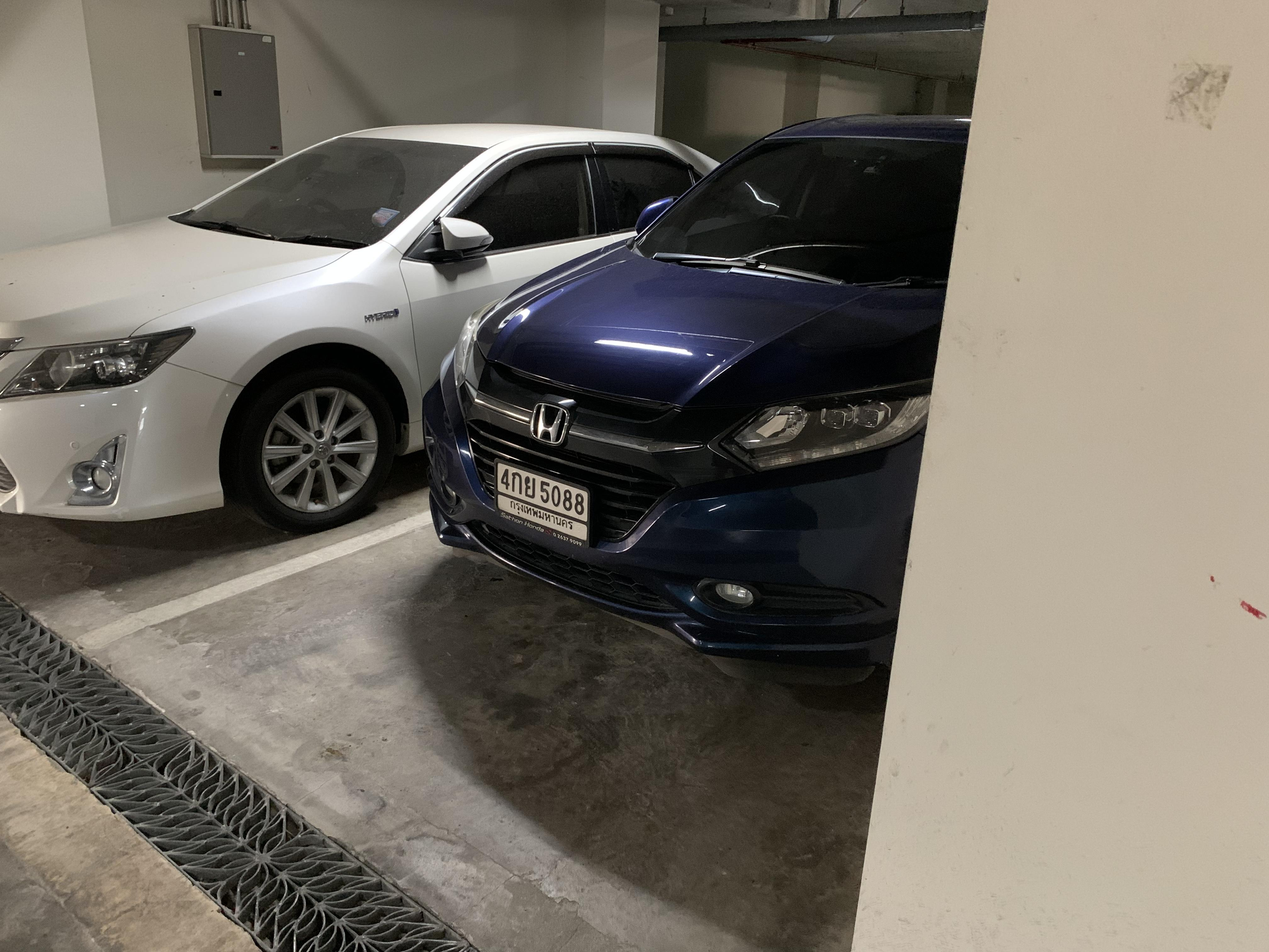license-plate: (492, 455, 594, 560)
